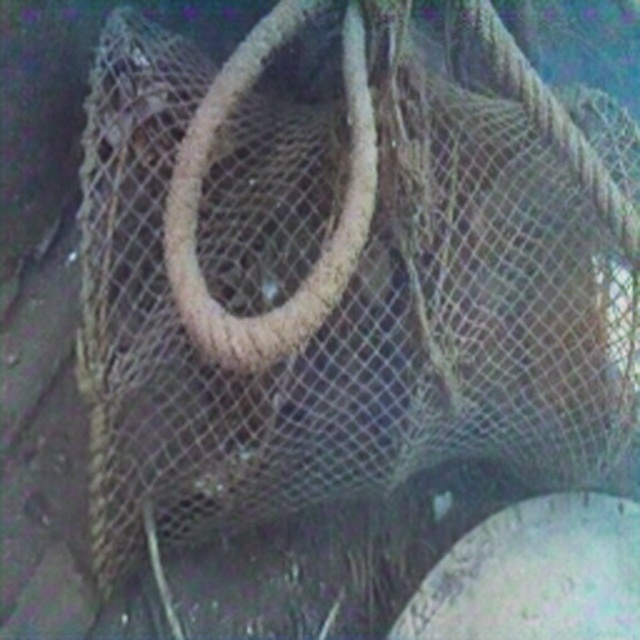mine: (74, 0, 640, 598)
